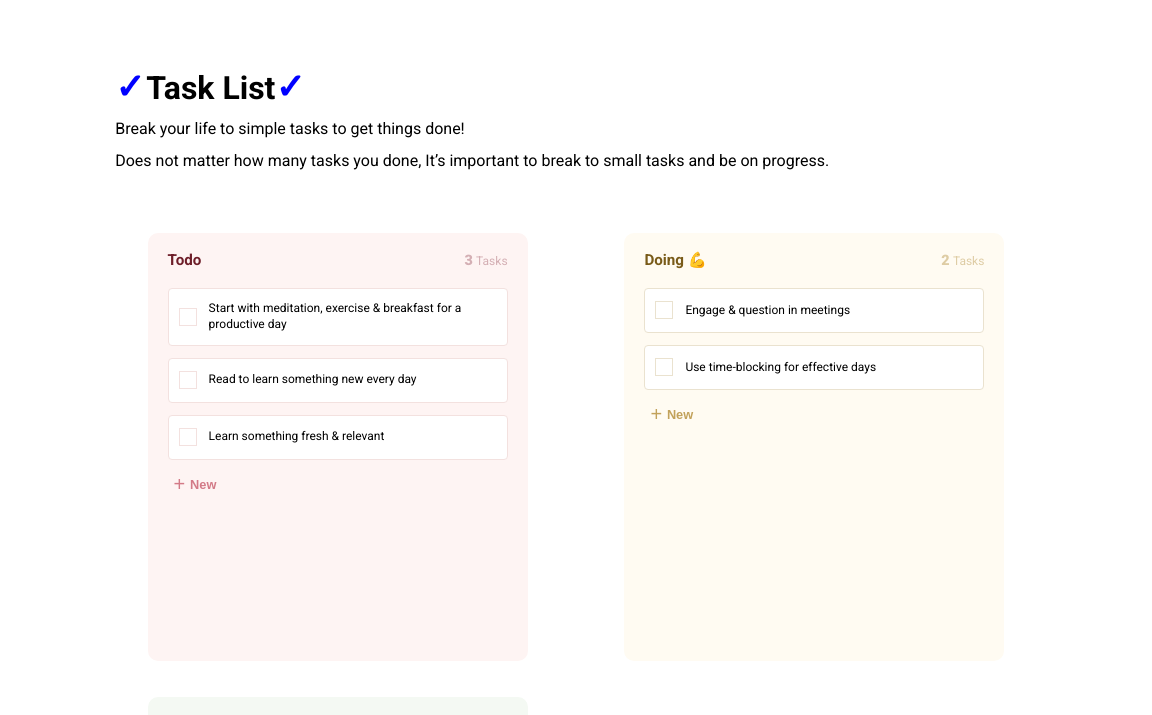
Scenario: user can add task › Add Doing Task
The image size is (1152, 715).
Check: the number of buttons named "doing task item" is 2, box [644,288,984,333]; [644,345,984,390]
Click the button "+ New" below "Doing 💪".
click(672, 415)  # box [644,402,699,427]
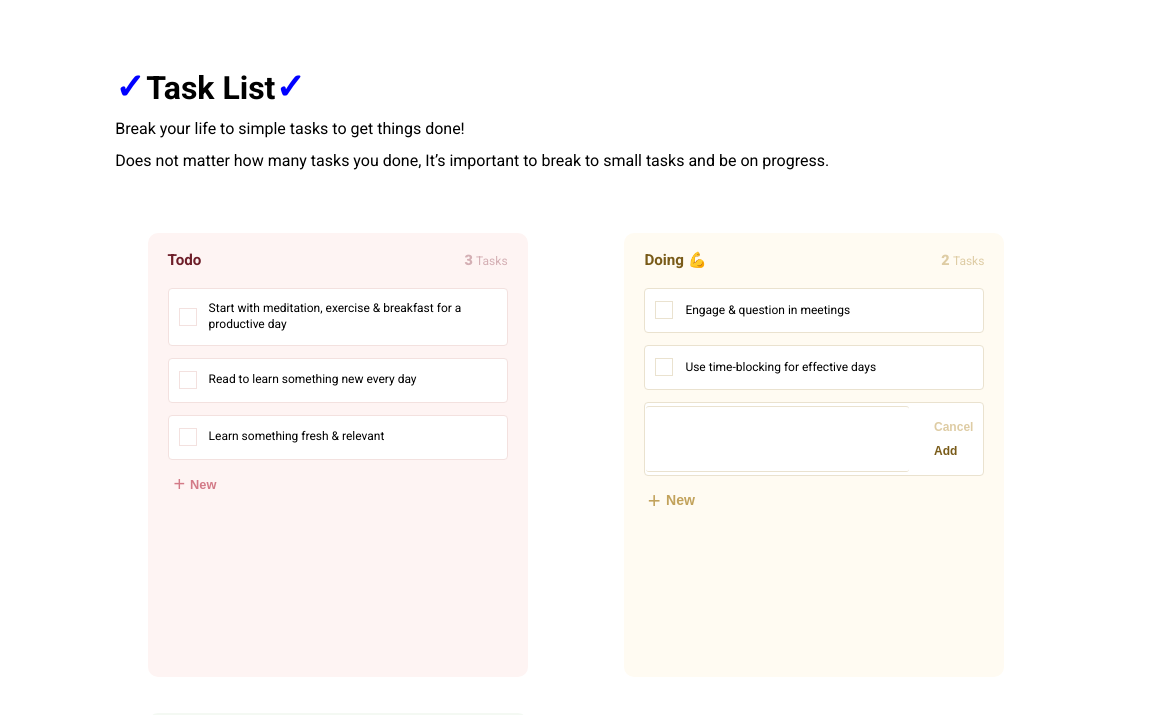
Type "Add Doing Task" into the text box named "newTask".
click(778, 439); type("Add Doing Task")  # box [646,406,909,471]
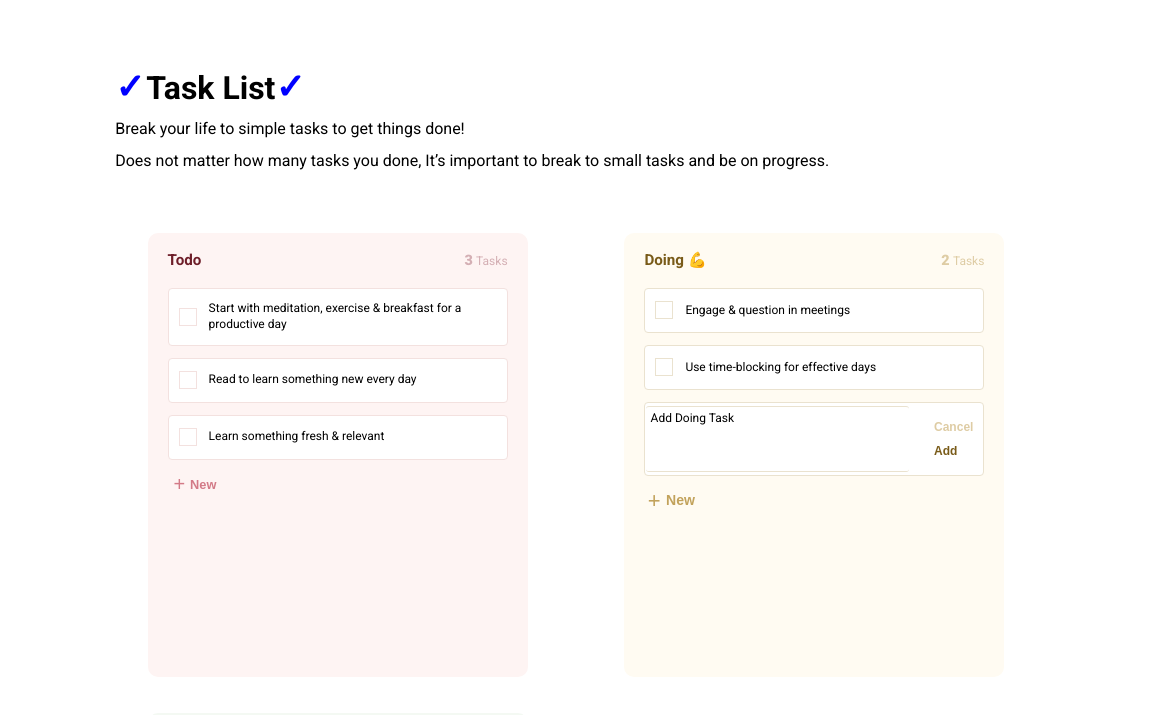
Click the button "Add".
click(946, 451)  # box [934,439,957,463]
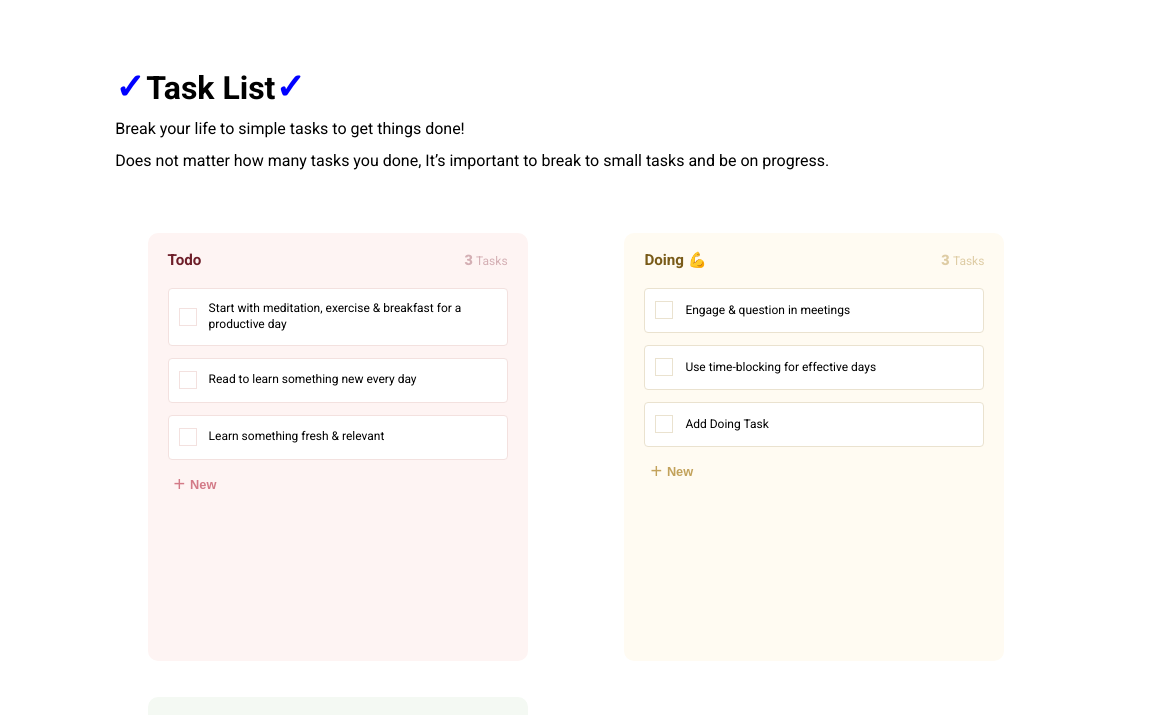
Check: the text "Add Doing Task" is shown, box [685,417,769,433]
